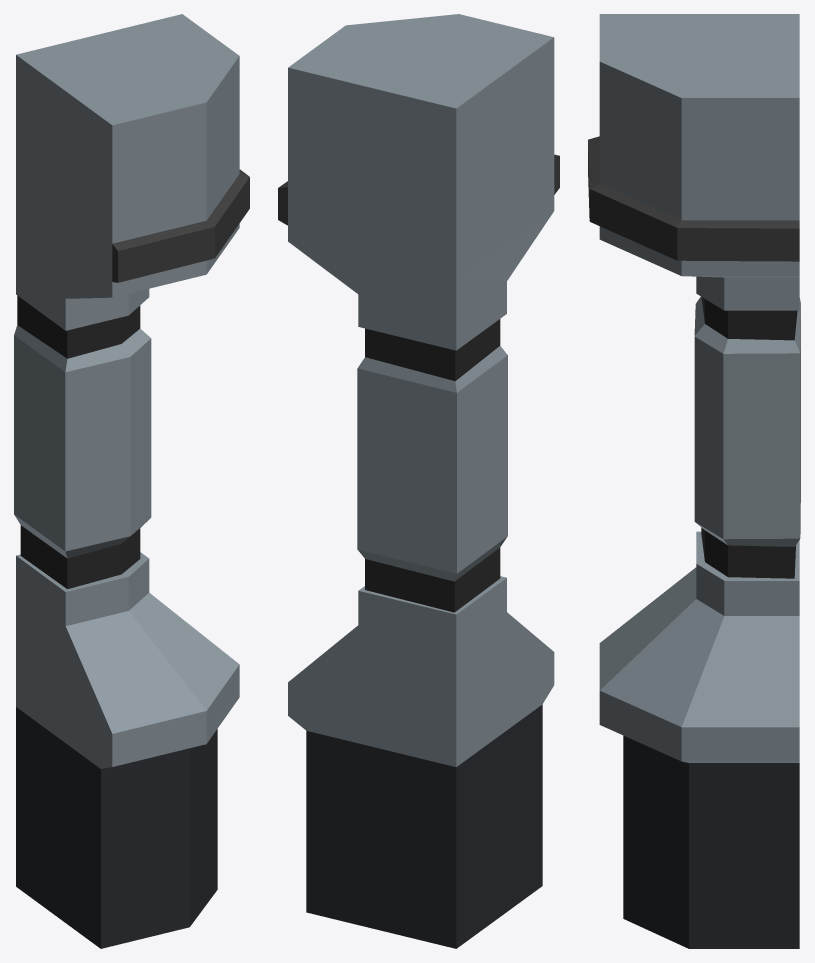
Rendered from SM_Bld_Wall_Corner_Pillar_03.fbx.
The picture shows the model from 3 angles, left to right: view 1: azimuth 30°, elevation 25°; view 2: azimuth 150°, elevation 25°; view 3: azimuth 270°, elevation 25°; orthographic projection. The views are drawn at different scales.
Parts seen in each view (by area): view 1: SM_Bld_Wall_Corner_Pillar_03; view 2: SM_Bld_Wall_Corner_Pillar_03; view 3: SM_Bld_Wall_Corner_Pillar_03.
Part boxes in pixels (x1,y1,x2,y2): SM_Bld_Wall_Corner_Pillar_03: (14, 14, 249, 948); SM_Bld_Wall_Corner_Pillar_03: (278, 14, 559, 948); SM_Bld_Wall_Corner_Pillar_03: (588, 14, 800, 948).
Bounding box in the file's own units: 114 × 509 × 114.
1 material, 1 textured.
